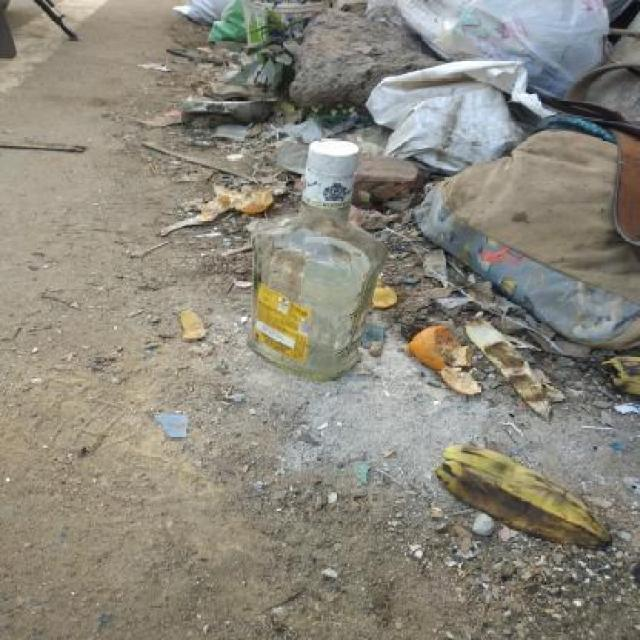garbage: (177, 3, 640, 402), (253, 111, 376, 398), (405, 438, 621, 560)
